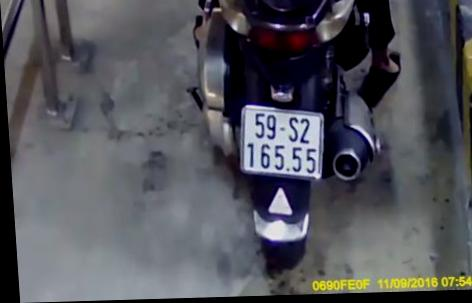License_Plate: (226, 95, 340, 192)
